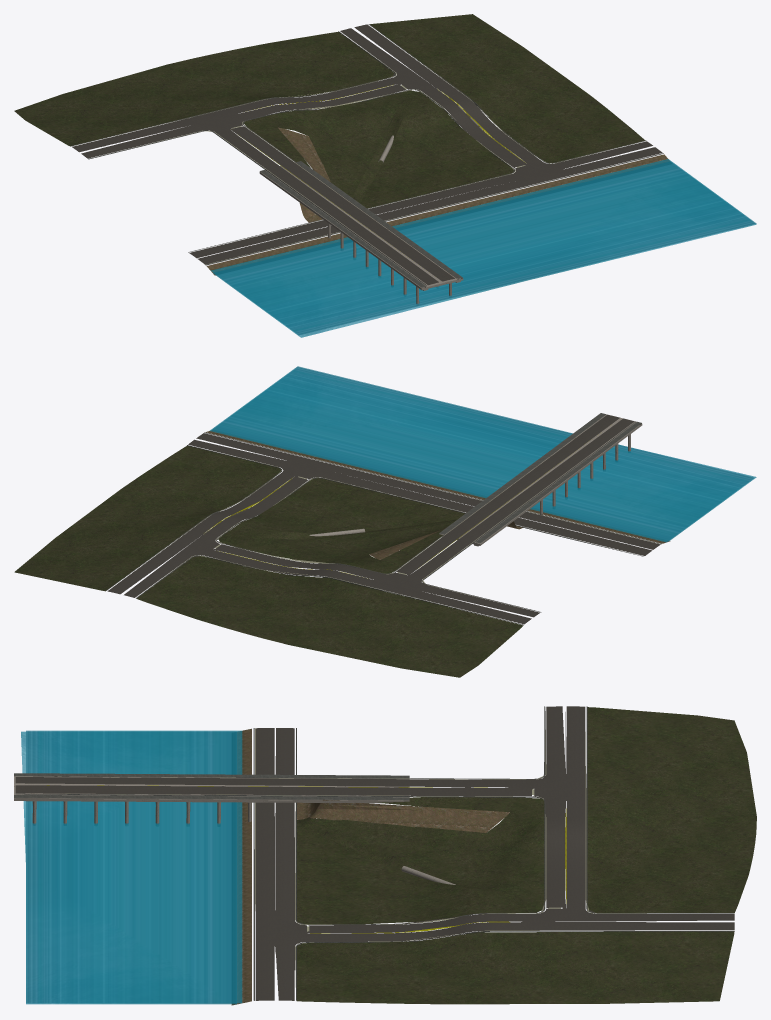
The model's file is map_road.glb.
3 renders of one model, top to bottom at view 1: azimuth 30°, elevation 25°; view 2: azimuth 150°, elevation 25°; view 3: azimuth 270°, elevation 25°, orthographic. The views are drawn at different scales.
Visible parts, largest first — view 1: Material2 (×6), Material3; view 2: Material2 (×6), Material3; view 3: Material2 (×7), Material3.
Part boxes in pixels (bbox=[...]): Material2 (×6): bbox=[14, 14, 669, 304]; Material3: bbox=[211, 159, 756, 337]; Material2 (×6): bbox=[14, 413, 670, 677]; Material3: bbox=[209, 366, 756, 542]; Material2 (×7): bbox=[14, 706, 756, 1005]; Material3: bbox=[21, 730, 242, 1004].
Bounding box in the file's own units: 5094 × 274 × 5802.
Materials: 10 (8 with a texture image).
